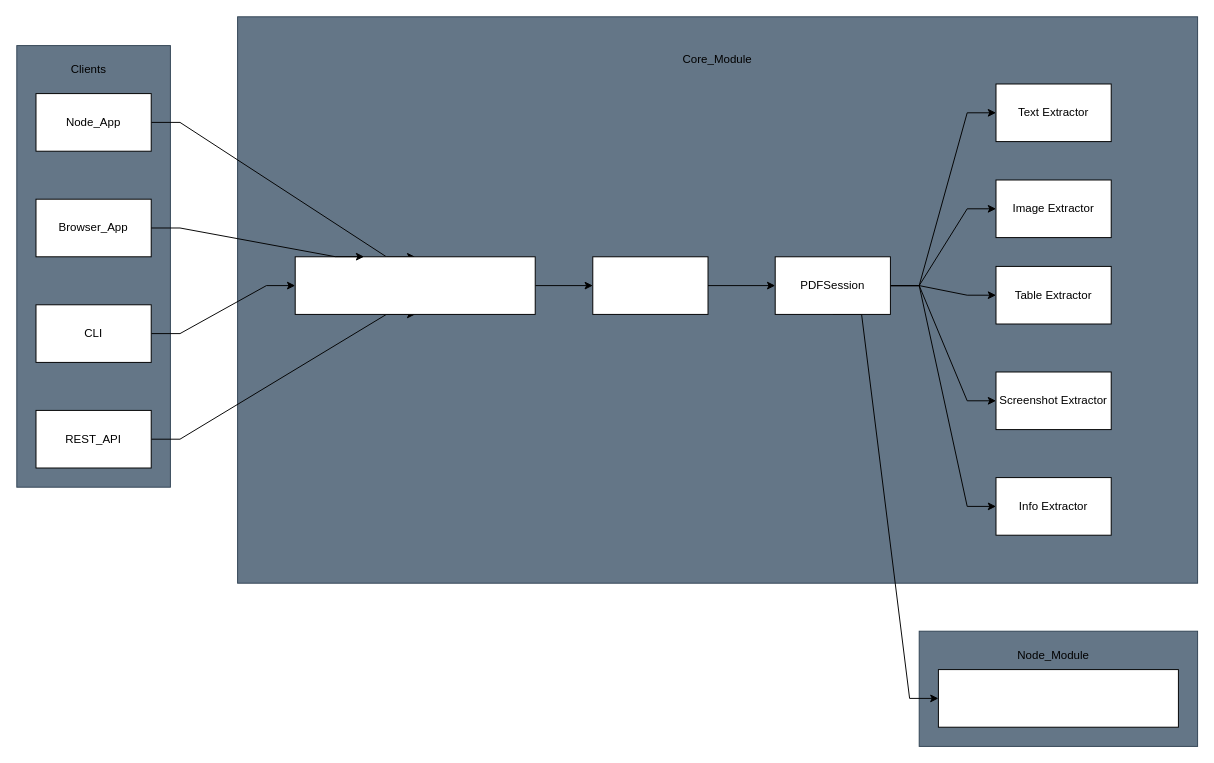
This 1214x763 diagram has some shape labels left out. The shapes that lost their labels are listed below. From the top down, each one's centre as x and y in pixels, then its label:
[414,285]: IPDF_URL_Buffer_Base64
[650,285]: PDFParser
[1057,698]: INodePDFUtils_getHeader
